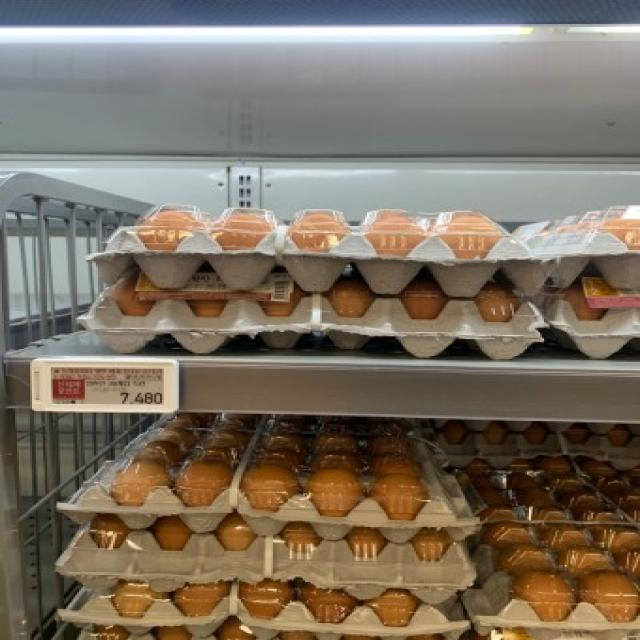eggs: (370, 205, 499, 259), (503, 565, 584, 619), (130, 207, 210, 255), (234, 459, 303, 511), (171, 453, 234, 505), (206, 207, 275, 252), (114, 454, 174, 504), (307, 468, 368, 516), (238, 574, 301, 620), (467, 286, 532, 329), (209, 509, 262, 560), (582, 570, 635, 620), (287, 208, 343, 252), (372, 475, 428, 519), (324, 282, 382, 318)
